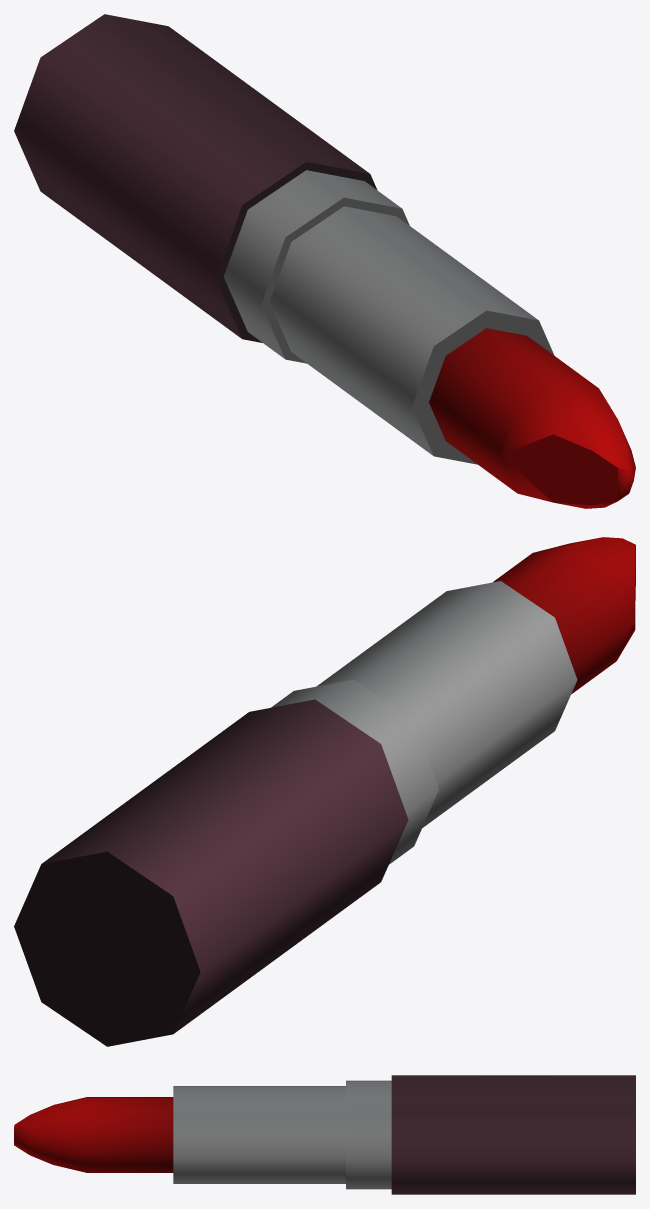
Rendered from human-household-items-lipstick_v1.fbx.
3 renders of one model, top to bottom at view 1: azimuth 30°, elevation 25°; view 2: azimuth 150°, elevation 25°; view 3: azimuth 270°, elevation 25°, orthographic. The views are drawn at different scales.
Visible parts, largest first — view 1: Lipstick; view 2: Lipstick; view 3: Lipstick.
Part boxes in pixels (x1,y1,x2,y2): Lipstick: (14,14,635,508); Lipstick: (14,537,635,1046); Lipstick: (14,1075,635,1194).
Bounding box in the file's own units: 0.0163 × 0.0163 × 0.08.
